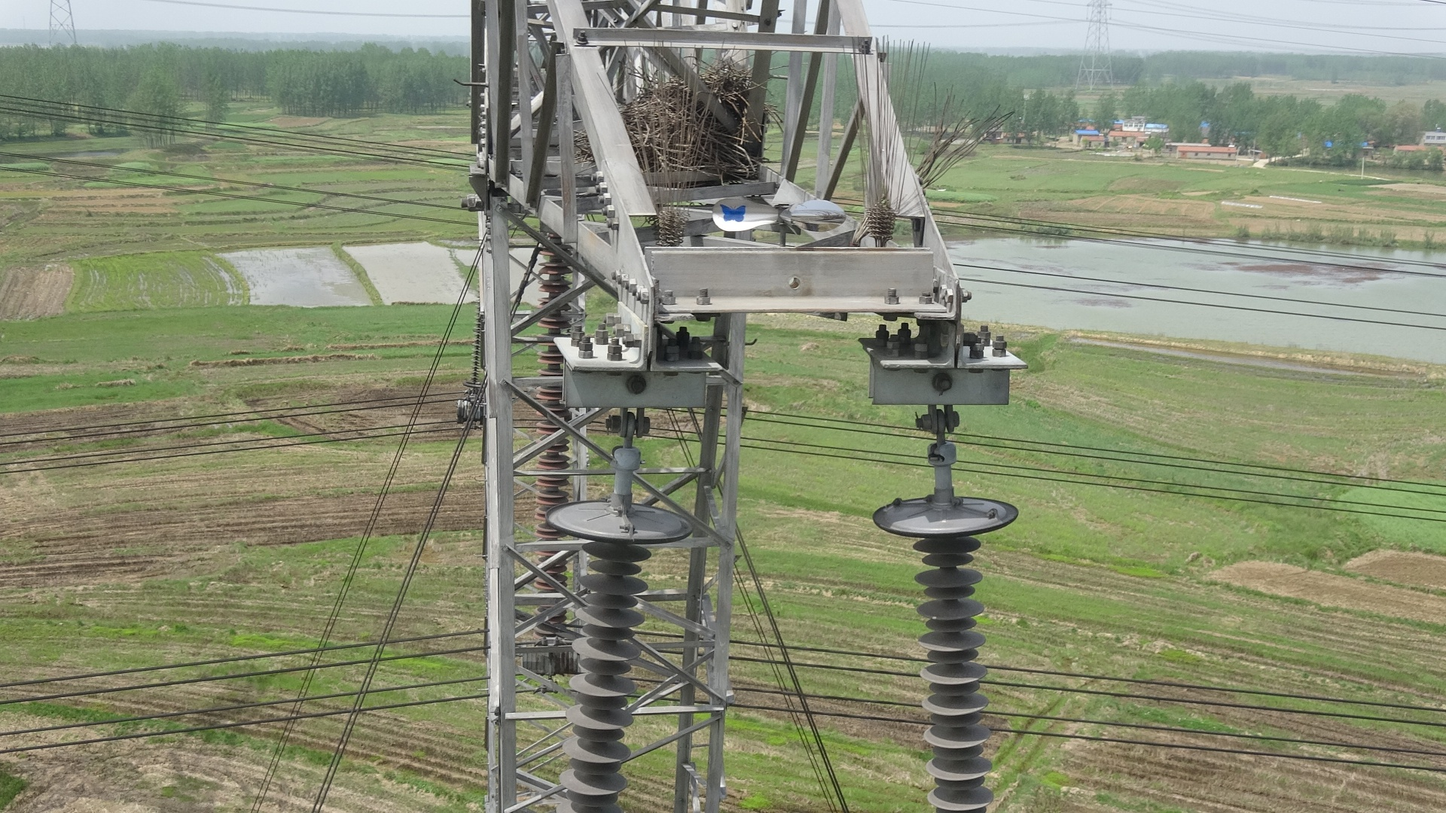insulator: (544, 540, 658, 813), (901, 534, 1001, 813), (529, 244, 577, 593)
